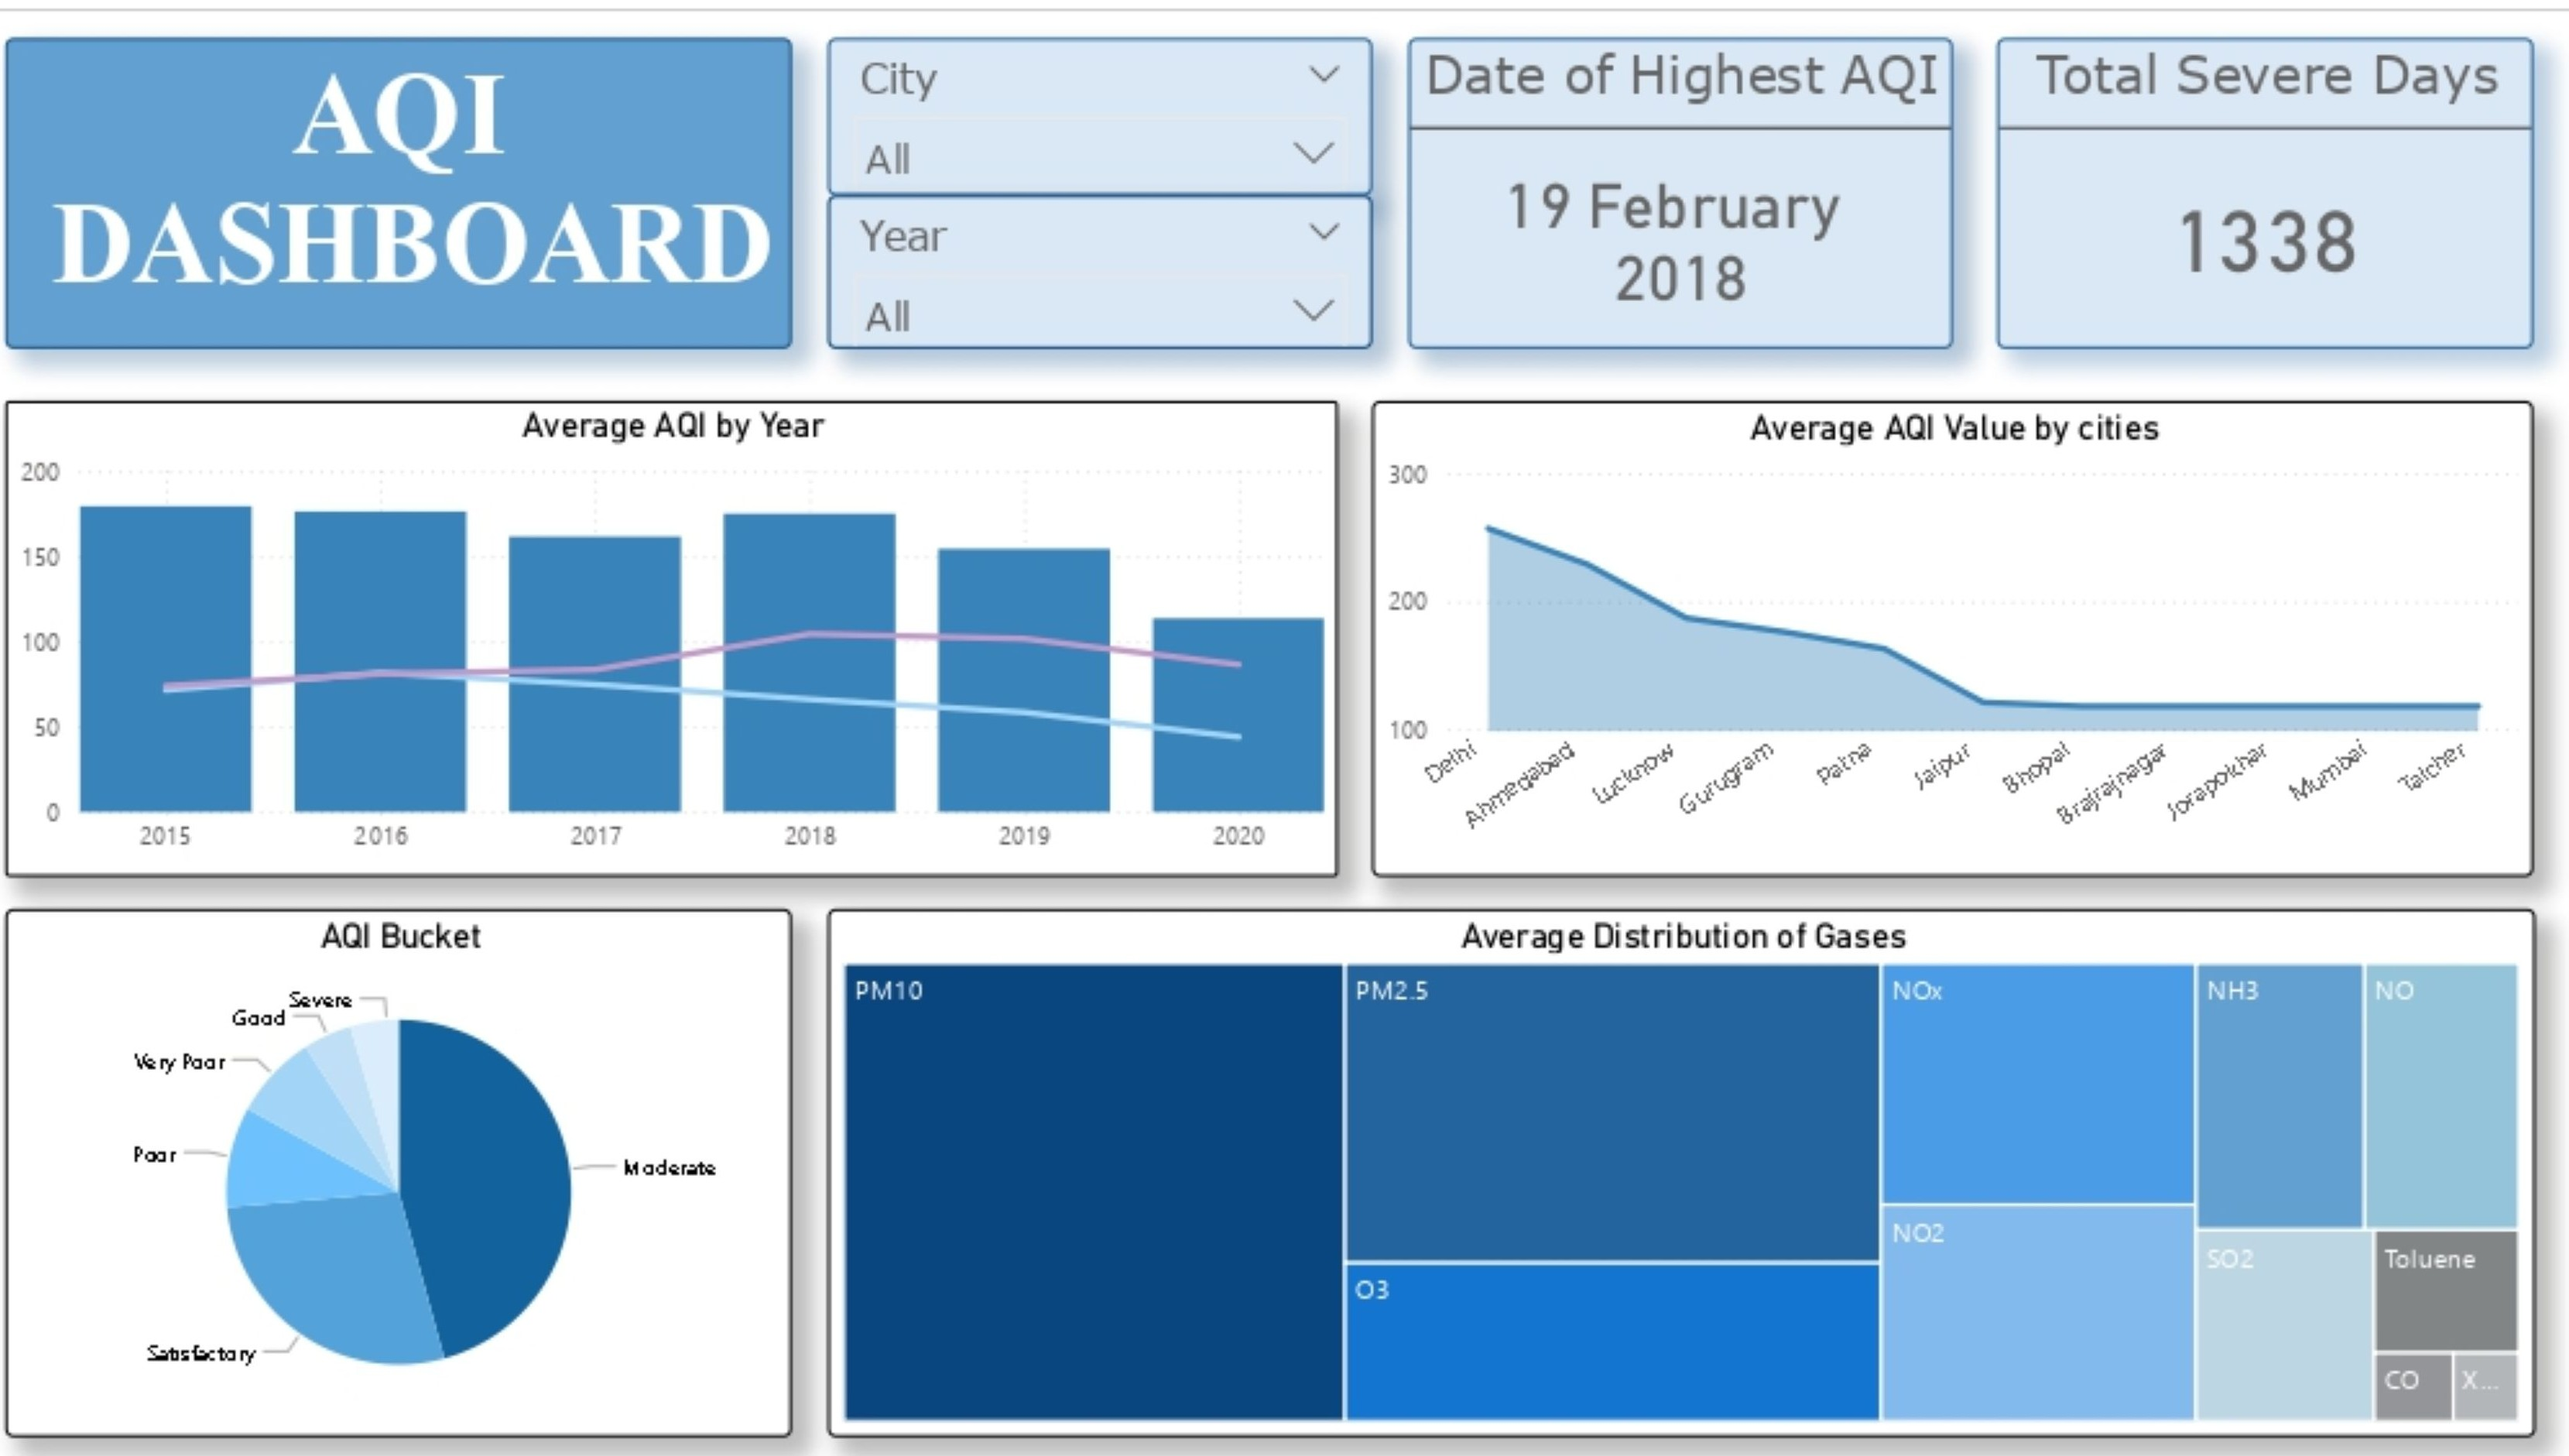

The dashboard page shown, as its layout file describes it:
{"tool":"powerbi","page":{"name":"Page 1","canvas":[1280,720],"ordinal":0},"visuals":[{"type":"pieChart","title":"AQI Bucket ","fields":{"Category":["city_day.AQI_Bucket"],"Y":["CountNonNull(city_day.AQI_Bucket)"]},"box":[11.3,446.9,390.2,262.3],"z":0},{"type":"areaChart","title":"Average AQI Value by cities","fields":{"Category":["city_day.City"],"Y":["Median(city_day.AQI)"]},"box":[689.8,194.6,576.4,236.2],"z":1000},{"type":"lineStackedColumnComboChart","title":"Average AQI by Year","fields":{"Category":["city_day.Date.Variation.Date Hierarchy.Year"],"Y":["Avg(city_day.AQI)"],"Y2":["Avg(city_day.PM2.5)","Avg(city_day.PM10)"]},"box":[11.3,194.6,661.4,236.2],"z":2000},{"type":"treemap","title":"Average Distribution of Gases","fields":{"Values":["Avg(city_day.PM10)","Avg(city_day.NO)","Avg(city_day.NOx)","Avg(city_day.CO)","Avg(city_day.O3)","Avg(city_day.Xylene)","Avg(city_day.Toluene)","Avg(city_day.NO2)","Avg(city_day.NH3)","Avg(city_day.PM2.5)","Avg(city_day.SO2)"]},"box":[419.4,446.9,846.9,262.3],"z":3000},{"type":"textbox","box":[12,14,390,154],"z":4000},{"type":"card","title":"Date of Highest AQI","fields":{"Values":["Min(city_day.Date)"]},"box":[708,14,270,154],"z":5000},{"type":"card","title":"Total Severe Days","fields":{"Values":["CountNonNull(city_day.AQI_Bucket)"]},"box":[1000,14,266,154],"z":6000},{"type":"slicer","title":"City","fields":{"Values":["city_day.City"]},"box":[420,14,270,78],"z":7000},{"type":"slicer","fields":{"Values":["city_day.Date.Variation.Date Hierarchy.Year"]},"box":[420,92,270,76],"z":7001}]}

Visuals, with their boxes in screenshot pixels (x1, y1, x2, y2), scaled from the page's 1280x720 canvas onto the 2569x1456 screenshot:
"AQI Bucket " pieChart: [x1=22, y1=904, x2=806, y2=1434]
"Average AQI Value by cities" areaChart: [x1=1385, y1=393, x2=2541, y2=871]
"Average AQI by Year" lineStackedColumnComboChart: [x1=22, y1=393, x2=1350, y2=871]
"Average Distribution of Gases" treemap: [x1=841, y1=904, x2=2541, y2=1434]
textbox: [x1=24, y1=29, x2=807, y2=340]
"Date of Highest AQI" card: [x1=1421, y1=29, x2=1963, y2=340]
"Total Severe Days" card: [x1=2007, y1=29, x2=2541, y2=340]
"City" slicer: [x1=843, y1=29, x2=1385, y2=186]
slicer - city_day.Date.Variation.Date Hierarchy.Year: [x1=843, y1=186, x2=1385, y2=340]
